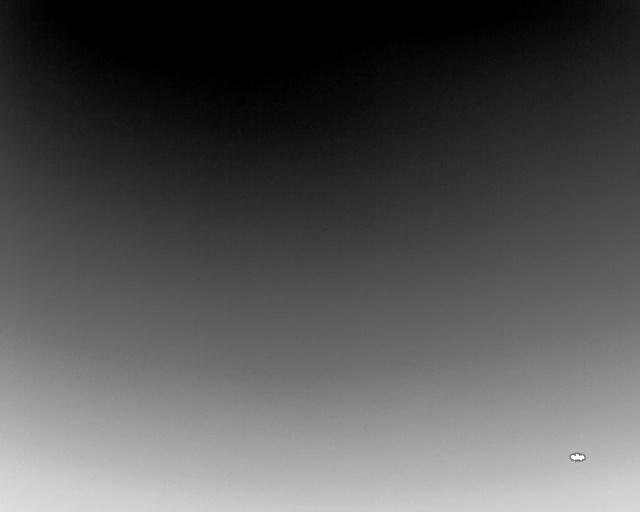fpv-drone: (569, 453, 585, 461)
